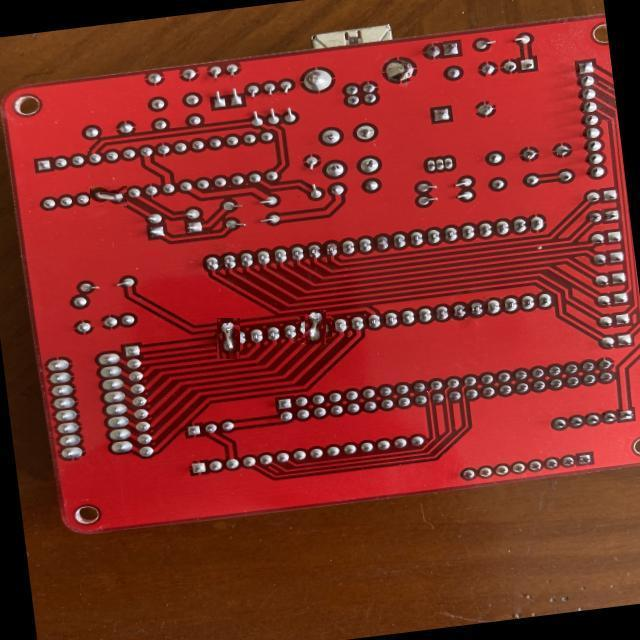damged: (213, 322, 245, 355), (301, 314, 329, 342), (90, 186, 127, 206)
